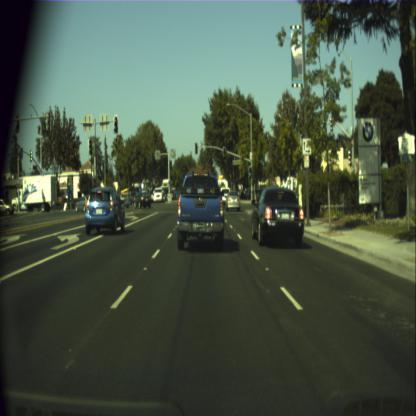Green: (248, 167, 252, 178), (222, 147, 225, 156), (195, 143, 197, 153)
